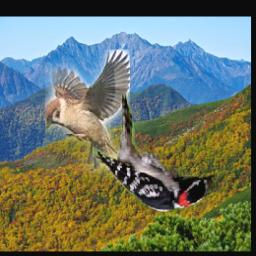Sparrow: (45, 50, 130, 178)
Woodpecker: (93, 90, 215, 214)
